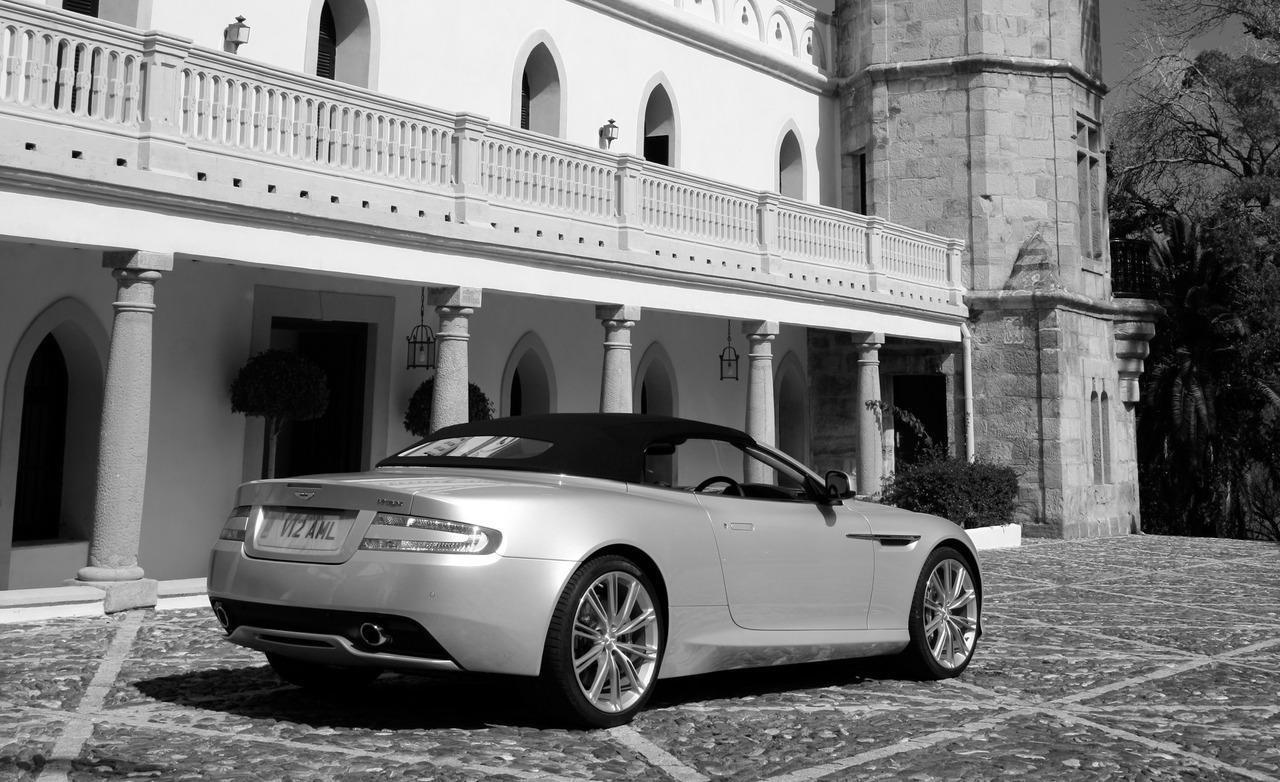car: (204, 410, 986, 730)
